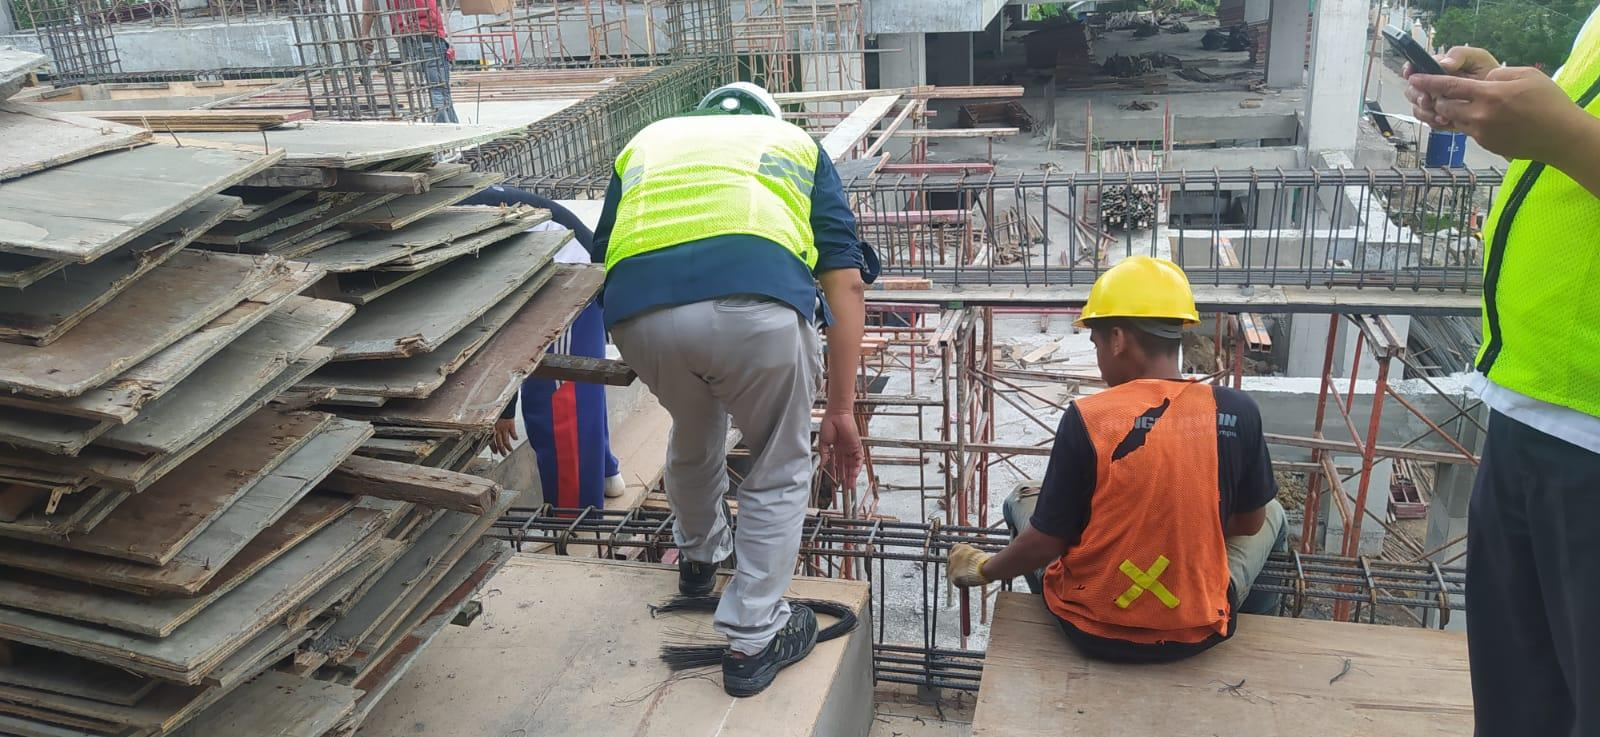vest: (1045, 375, 1255, 691), (1467, 1, 1600, 499), (585, 93, 829, 313), (689, 59, 811, 122)
